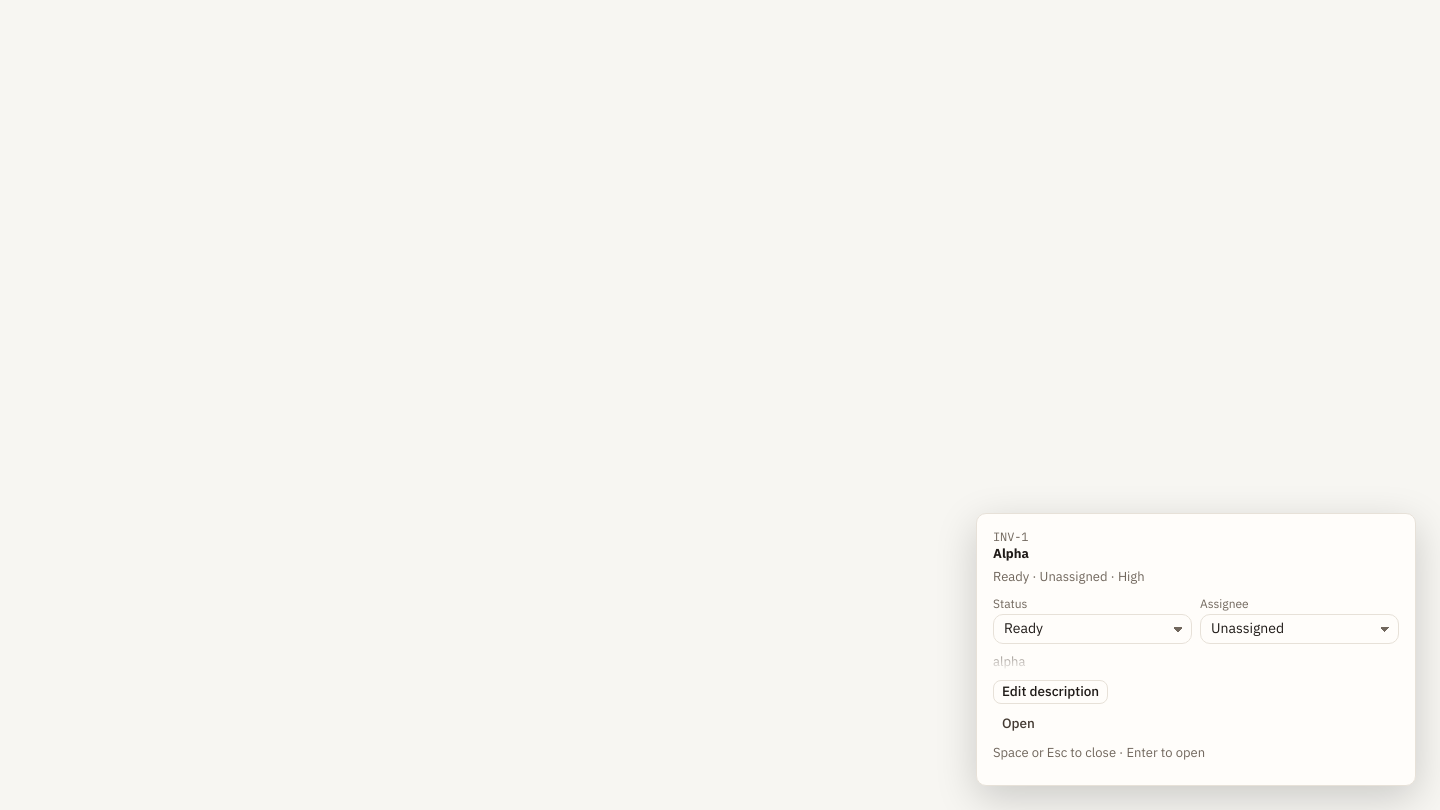
IssuePeek › keeps the draft beside the server copy after a conflict
Later steps or results of the test are not shown.
Step 1. Click the button "Edit description" → click(1051, 692), box [993, 680, 1108, 704]
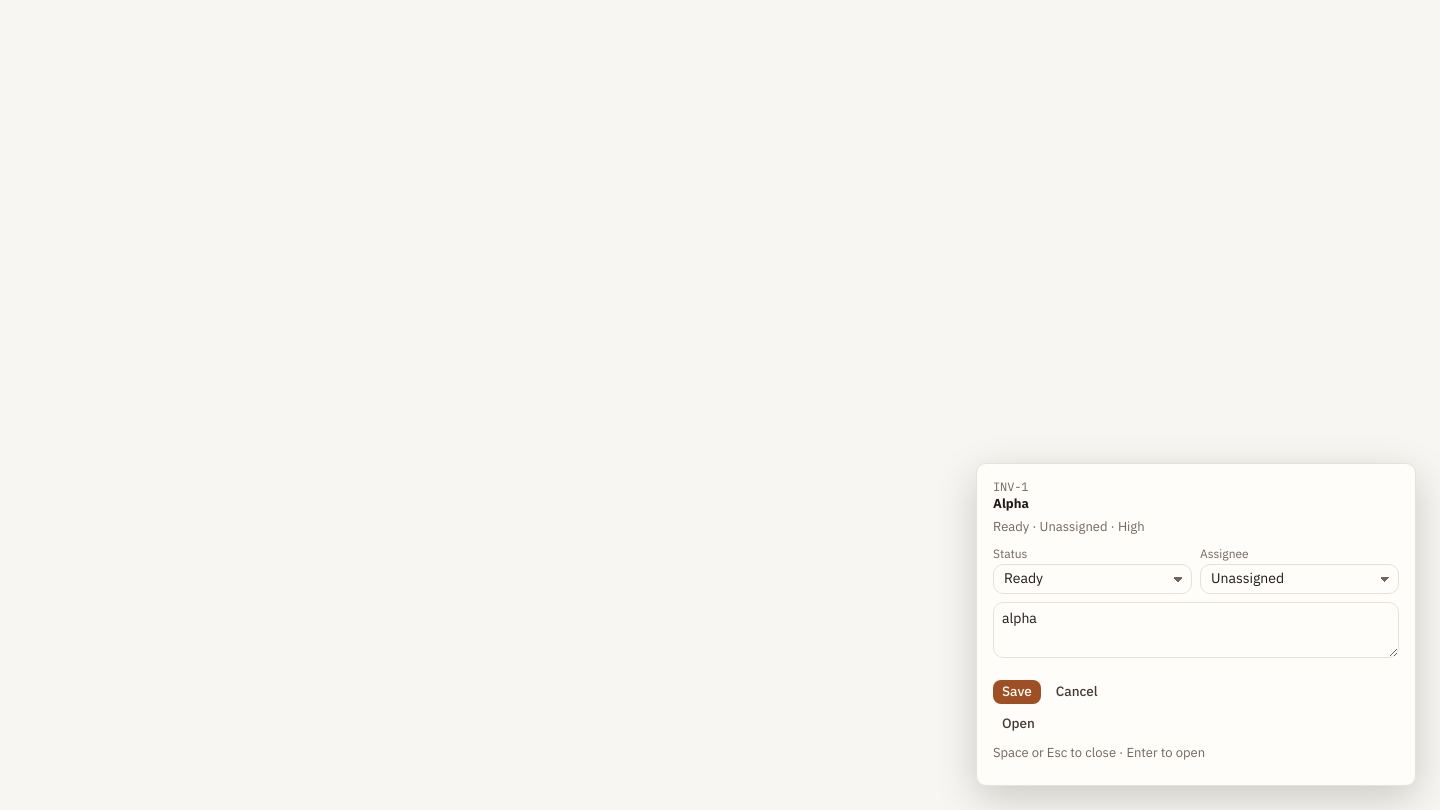
Step 2. Replace the text in the text box named "Description" with "mine" → (1196, 630), box [993, 602, 1399, 658]
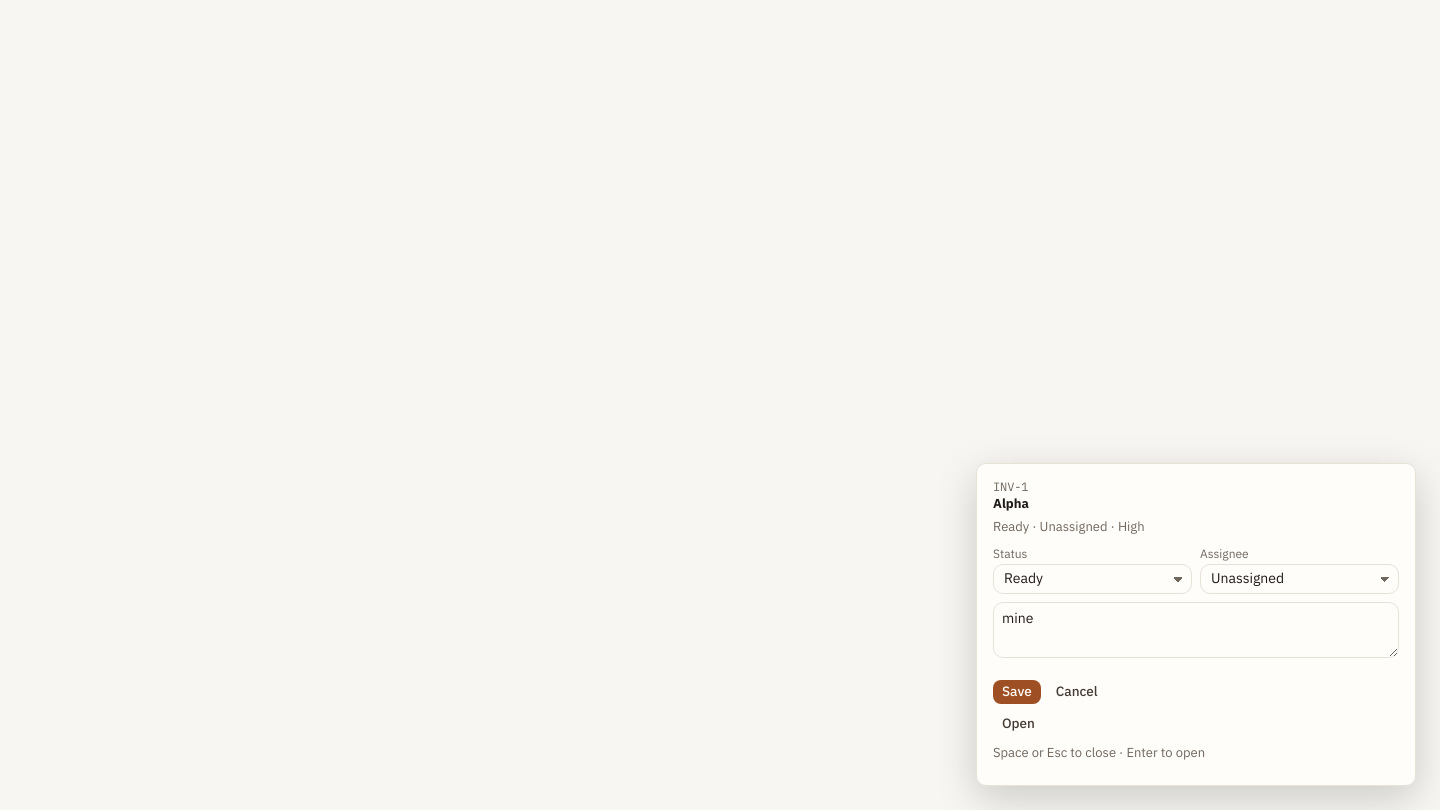
Step 3. Click the button "Save" → click(1017, 692), box [993, 680, 1041, 704]
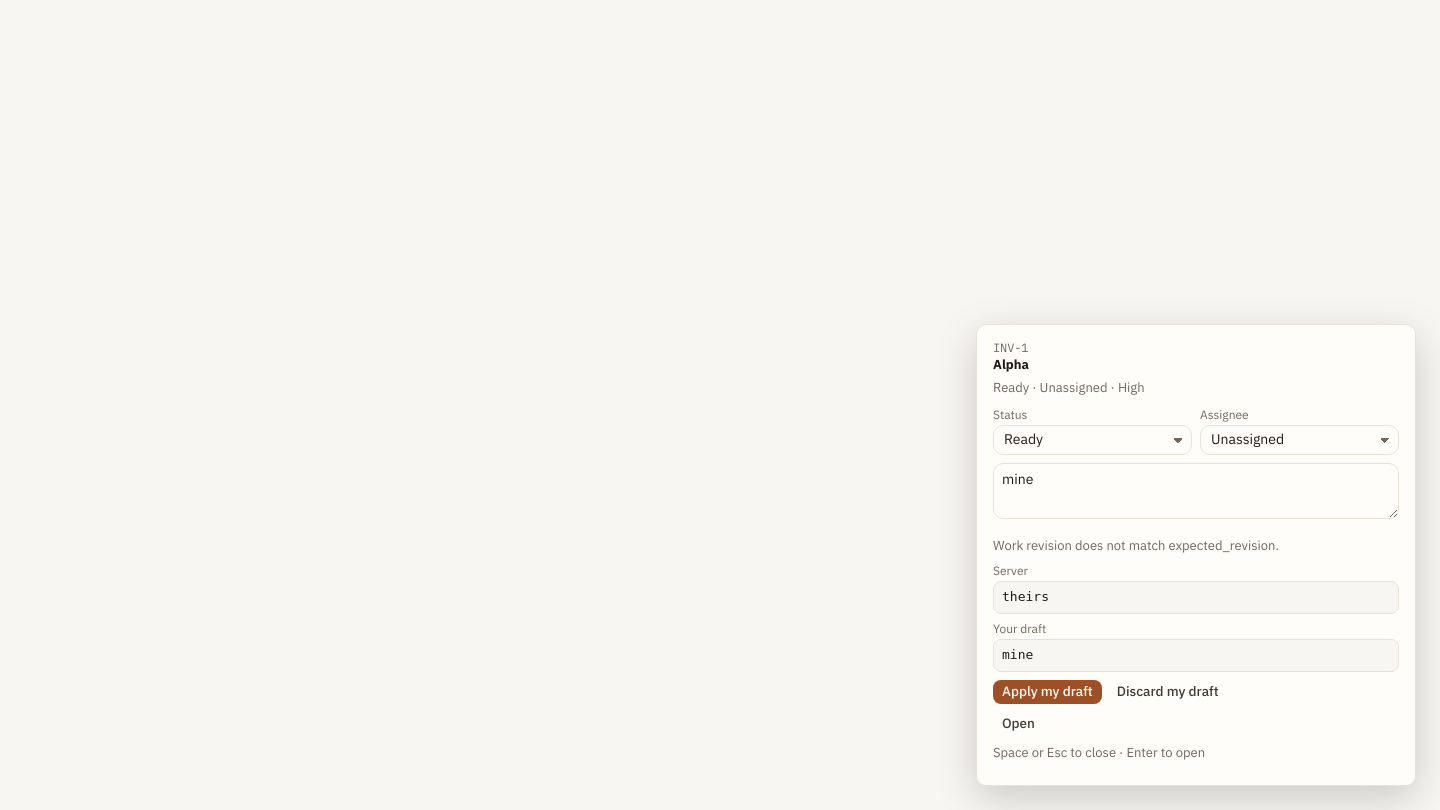
Check: the text "theirs" is shown, box [993, 581, 1399, 614]
